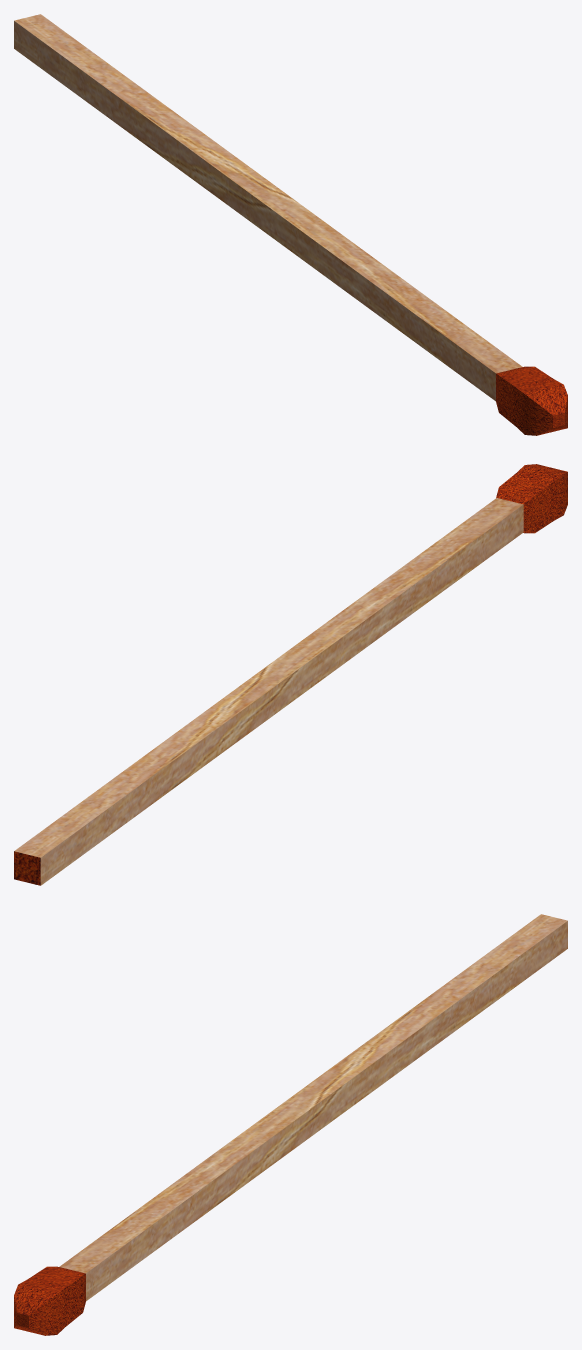
Rendered from Matchstick.fbx.
3 renders of one model, top to bottom at view 1: azimuth 30°, elevation 25°; view 2: azimuth 150°, elevation 25°; view 3: azimuth 330°, elevation 25°, orthographic.
Visible parts, largest first — view 1: Matchstick; view 2: Matchstick; view 3: Matchstick.
Boxes of the visible parts, x1,y1,x2,y2 form: Matchstick: (14, 14, 567, 435); Matchstick: (14, 464, 567, 885); Matchstick: (14, 914, 567, 1335).
Bounding box in the file's own units: 0.3148 × 0.3148 × 7.43.
